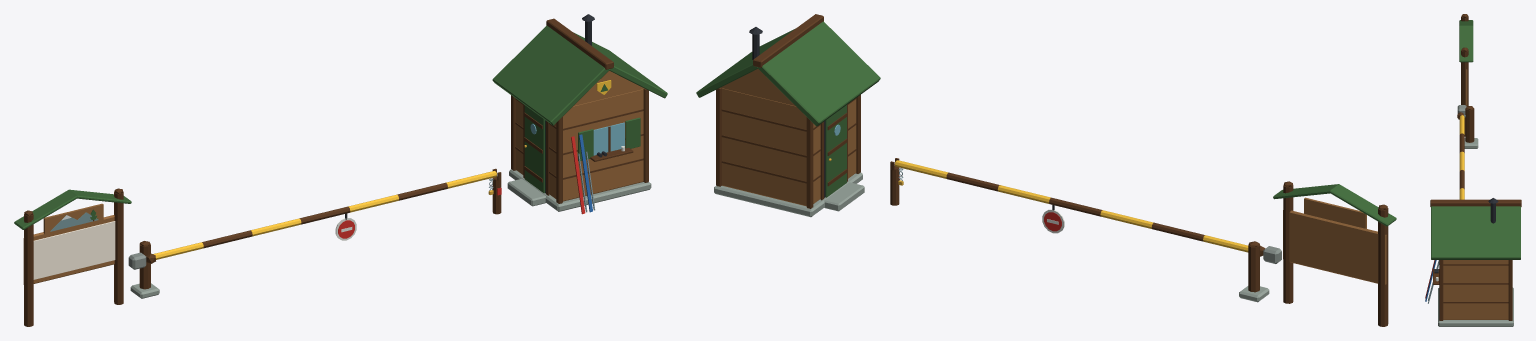
Rendered from sm_env_gate_checkpoint.glb.
3 renders of one model, left to right at view 1: azimuth 30°, elevation 25°; view 2: azimuth 150°, elevation 25°; view 3: azimuth 270°, elevation 25°, orthographic. The views are drawn at different scales.
Parts seen in each view (by area): view 1: RangerCabin, RangerSign, Boom, Board, Door, BoomPost; view 2: RangerCabin, RangerSign, Boom, Door, BoomPost; view 3: RangerCabin, RangerSign, Boom, BoomPost.
Part boxes in pixels (<box>): RangerCabin: <box>492,14,667,214</box>; RangerSign: <box>14,188,131,326</box>; Boom: <box>128,171,496,269</box>; Board: <box>33,221,115,279</box>; Door: <box>524,105,545,193</box>; BoomPost: <box>130,241,159,298</box>; RangerCabin: <box>696,14,880,217</box>; RangerSign: <box>1273,181,1396,326</box>; Boom: <box>894,160,1281,263</box>; Door: <box>825,105,847,197</box>; BoomPost: <box>1239,241,1269,302</box>; RangerCabin: <box>1425,198,1521,326</box>; RangerSign: <box>1459,14,1473,136</box>; Boom: <box>1457,105,1466,199</box>; BoomPost: <box>1464,106,1478,148</box>.
Size of the model in its own units: 15.99 by 3.81 by 2.79.
